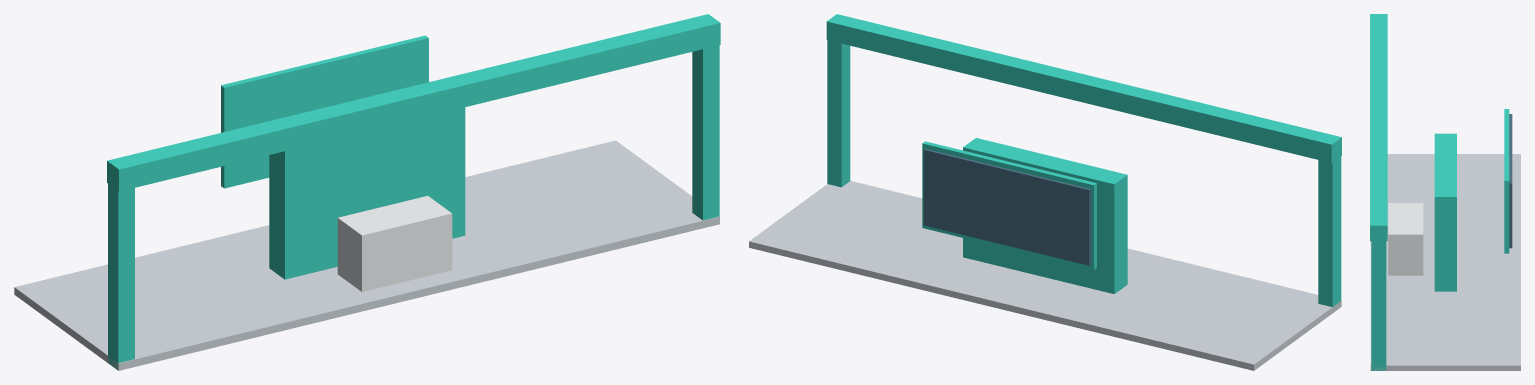
3 renders of one model, left to right at view 1: azimuth 30°, elevation 25°; view 2: azimuth 150°, elevation 25°; view 3: azimuth 270°, elevation 25°, orthographic. The views are drawn at different scales.
Visible parts, largest first — view 1: Exhibition Booth Concept; view 2: Exhibition Booth Concept; view 3: Exhibition Booth Concept.
Boxes of the visible parts, x1,y1,x2,y2 form: Exhibition Booth Concept: (14, 14, 720, 370); Exhibition Booth Concept: (749, 14, 1341, 370); Exhibition Booth Concept: (1370, 14, 1520, 370).
Size of the model in its own units: 10 by 3.2 by 3.01.
